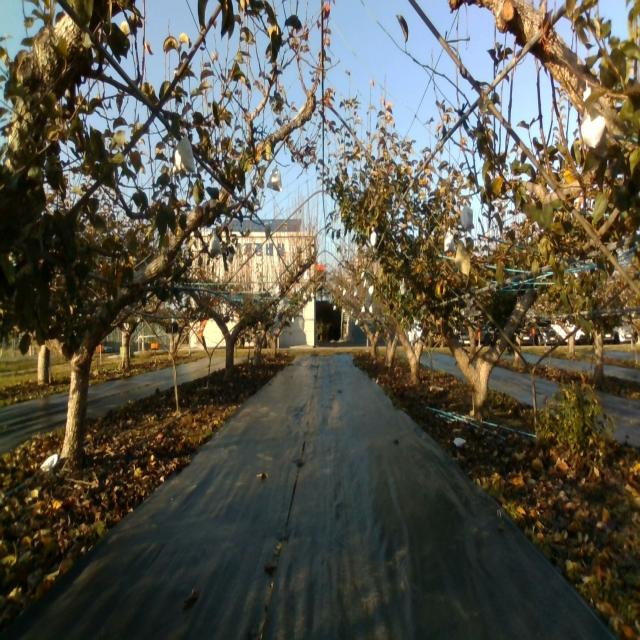pearbags: (580, 109, 606, 150), (171, 136, 197, 176), (266, 165, 283, 193), (460, 206, 472, 232), (210, 233, 223, 254), (443, 232, 455, 252)
